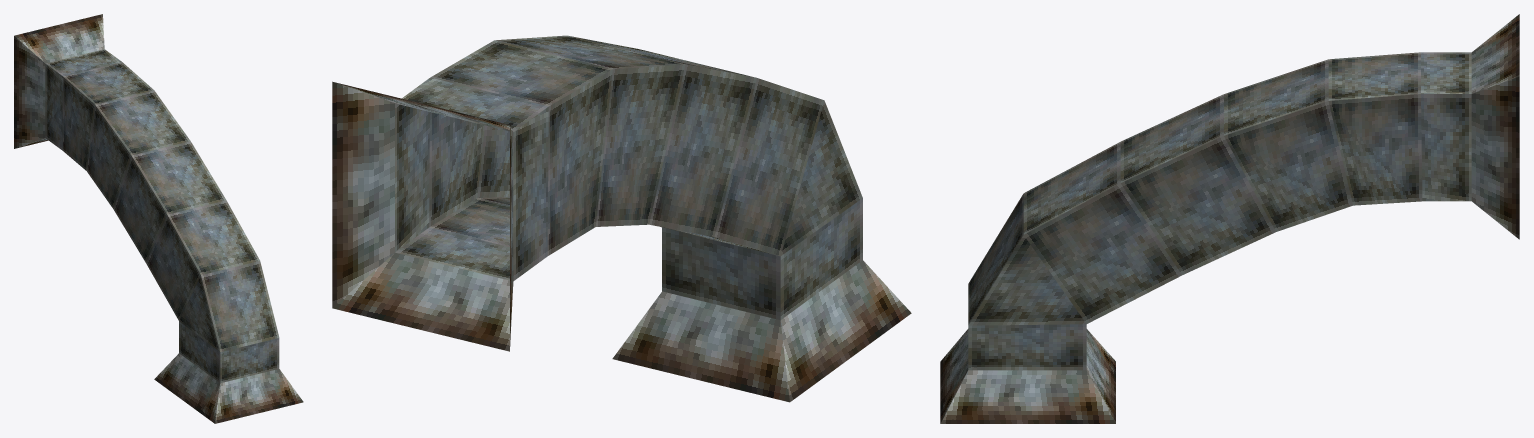
3 renders of one model, left to right at view 1: azimuth 30°, elevation 25°; view 2: azimuth 150°, elevation 25°; view 3: azimuth 270°, elevation 25°, orthographic. The views are drawn at different scales.
Visible parts, largest first — view 1: prim224-Loft01; view 2: prim224-Loft01; view 3: prim224-Loft01.
Part boxes in pixels (bbox=[...]): prim224-Loft01: bbox=[14, 14, 303, 423]; prim224-Loft01: bbox=[332, 35, 911, 402]; prim224-Loft01: bbox=[940, 14, 1519, 423].
Bounding box in the file's own units: 96 × 249 × 376.
2 materials, 2 textured.
